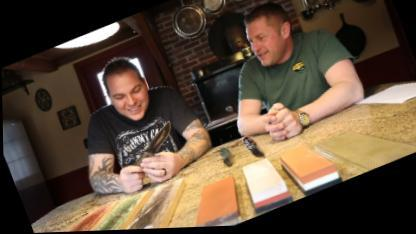knife: (114, 113, 187, 179)
